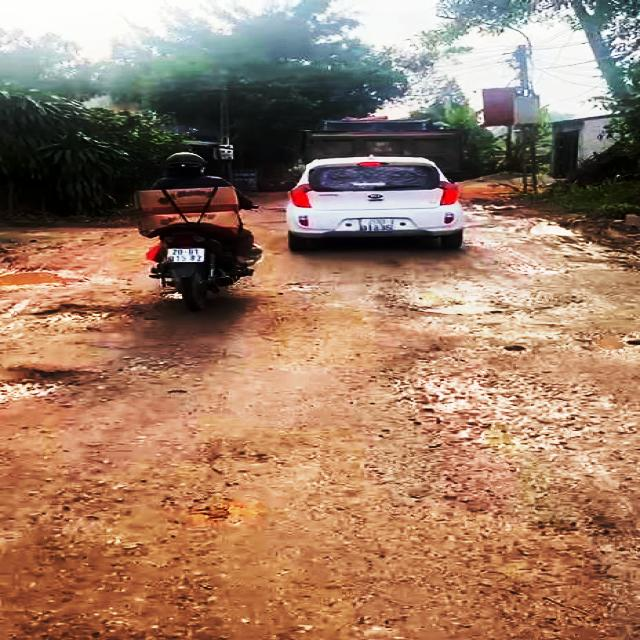pothole: (389, 372, 615, 453), (380, 284, 576, 318), (0, 363, 132, 406), (28, 301, 184, 330), (0, 262, 86, 290)
